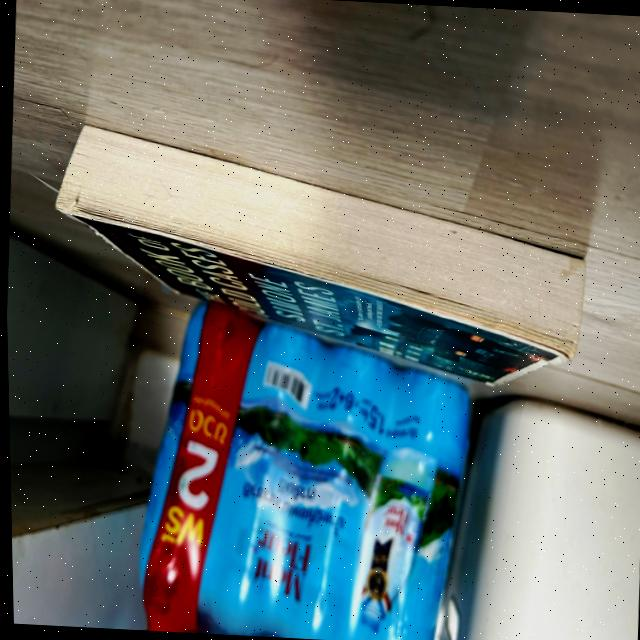Book: (55, 125, 584, 386)
